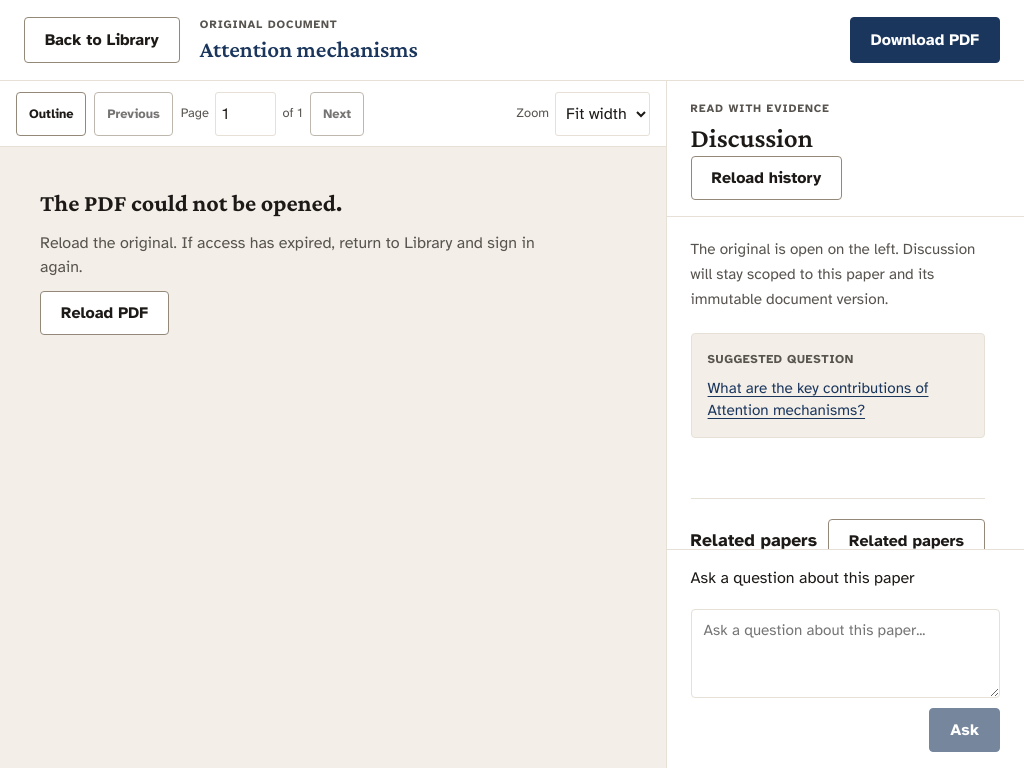
Test: requires explicit search and a separate canonical Add, and keeps accepted queued state honest
Click the button "Related papers": [906, 541] box 828,519 -> 985,563
(page scrolled)
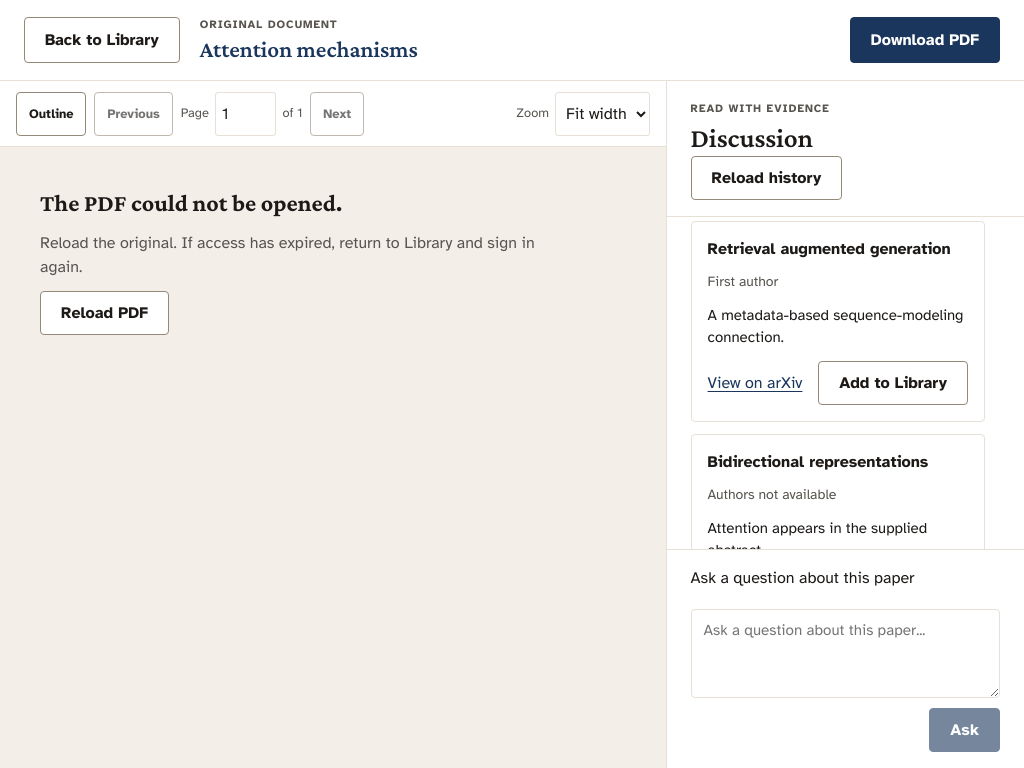
Check: the text "A metadata-based sequence-modeling connection." is shown, box 708,304 -> 968,349
Click the button "Add to Library": [893, 383] box 818,361 -> 968,405
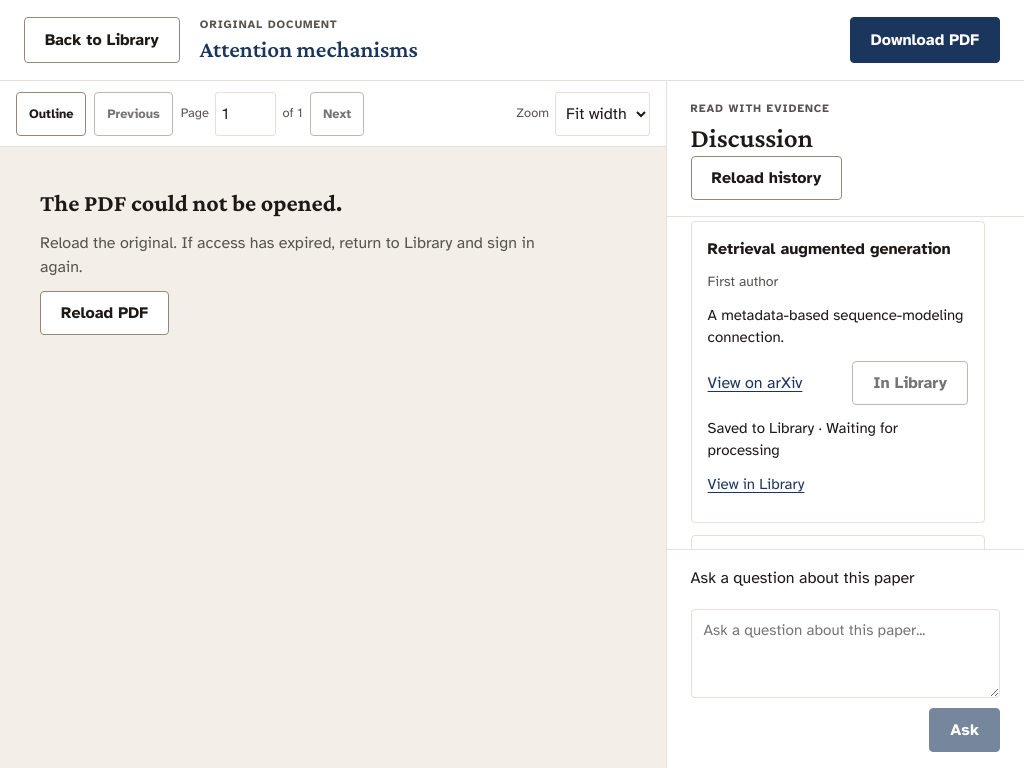
Check: the text box labelled "Ask a question about this paper" is shown, box 691,609 -> 1000,698
Check: the text "Saved to Library · Waiting for processing" is shown, box 708,419 -> 898,459
